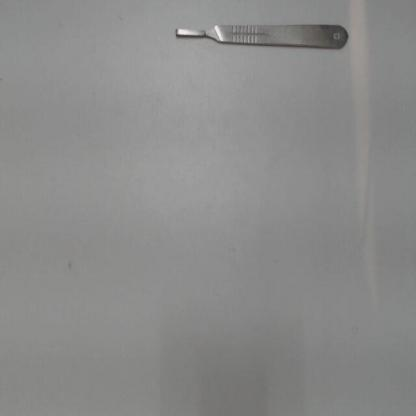No.4 BP Handle: (169, 22, 357, 56)
